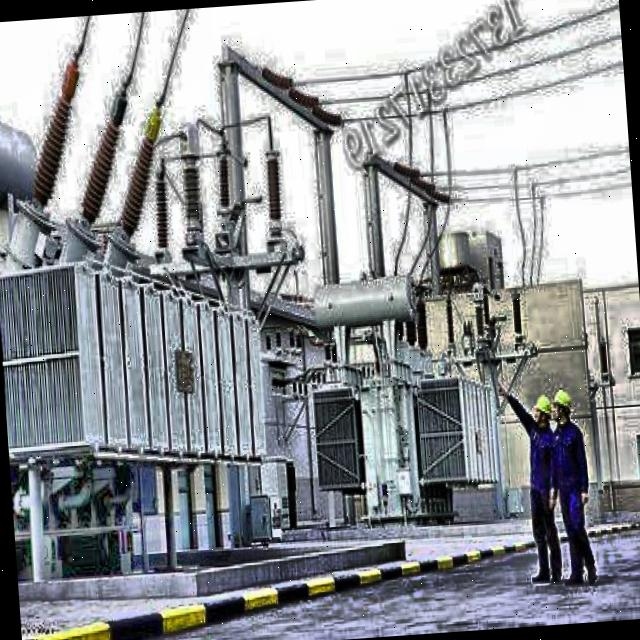helmet: (530, 392, 554, 434), (549, 386, 572, 426)
